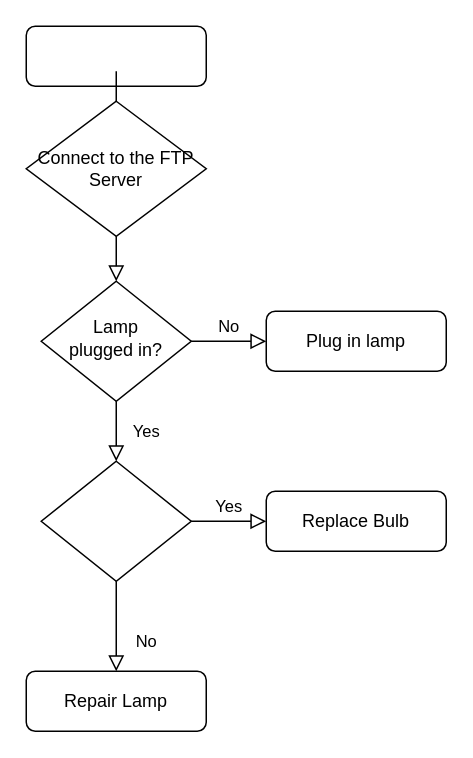
Some shapes in this 473 by 758 pixel diagram are drawn without their labels. Each missing label, with the box of its shape:
Bulb burned out?: (40, 460, 191, 581)
Initiate the FTP class: (25, 25, 206, 86)
